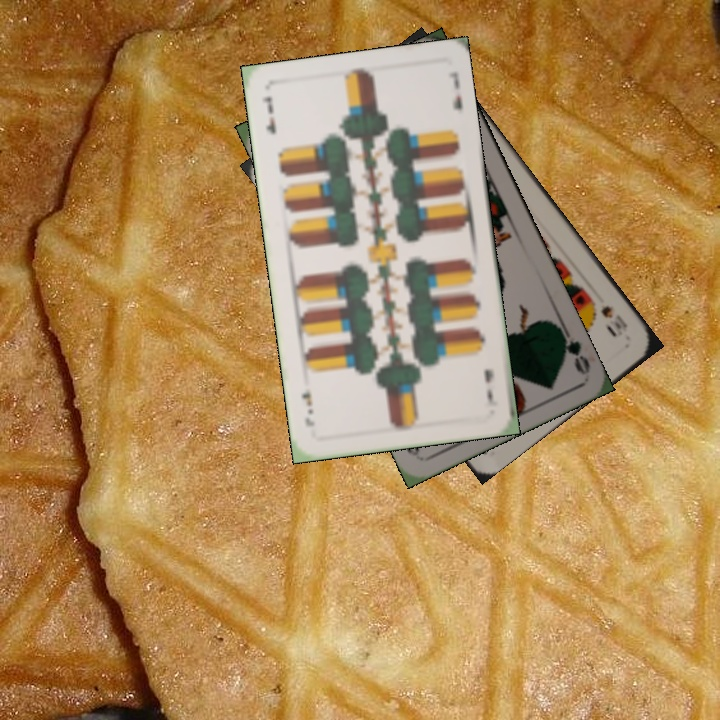E7: (479, 365, 500, 410), (258, 92, 279, 137)
GO: (552, 319, 593, 376)
S10: (586, 295, 631, 338)
